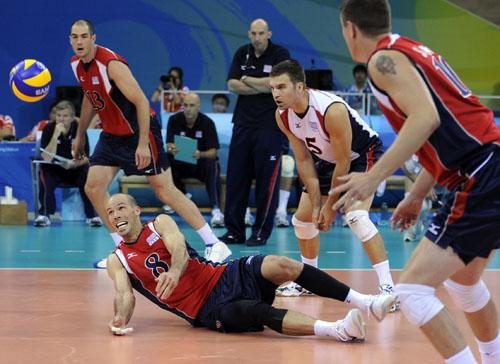10+: (25, 6, 481, 345)
down: (65, 184, 398, 347)
